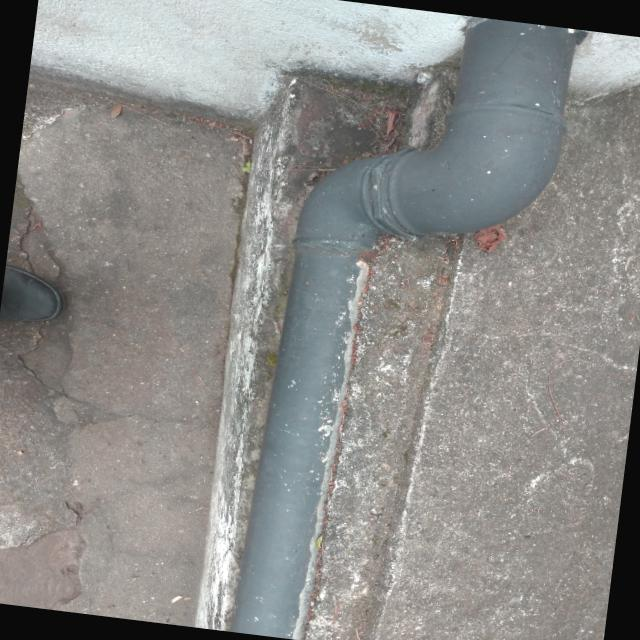gas: (232, 147, 381, 640), (442, 16, 576, 214)
